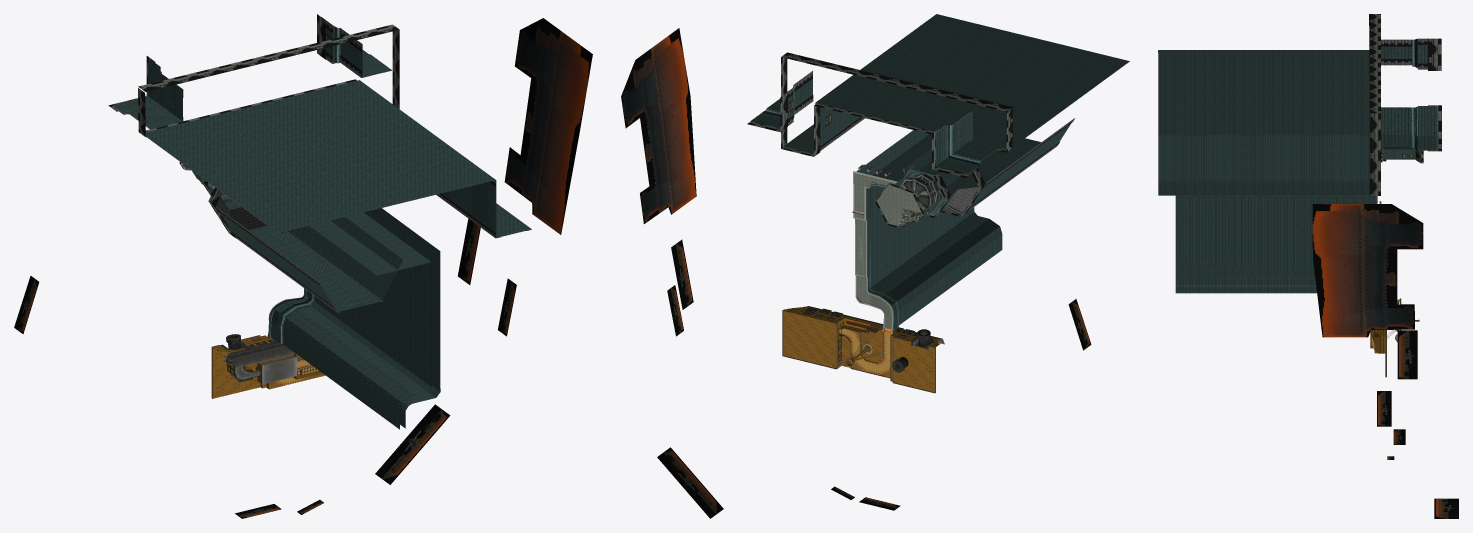
3 renders of one model, left to right at view 1: azimuth 30°, elevation 25°; view 2: azimuth 150°, elevation 25°; view 3: azimuth 270°, elevation 25°, orthographic. The views are drawn at different scales.
Parts seen in each view (by area): view 1: m04, m15, a_m14, m12, s_m11, m13; view 2: m04, m15, a_m14, s_m11, m13, s_m03, m08, s_m07; view 3: m04, m15, a_m14, m13.
Boxes of the visible parts, x1=… form: m04: x1=113, y1=25, x2=531, y2=429; m15: x1=14, y1=18, x2=592, y2=518; a_m14: x1=108, y1=14, x2=531, y2=398; m12: x1=220, y1=343, x2=296, y2=384; s_m11: x1=212, y1=348, x2=325, y2=398; m13: x1=127, y1=26, x2=368, y2=379; m04: x1=750, y1=14, x2=1129, y2=330; m15: x1=621, y1=28, x2=1091, y2=518; a_m14: x1=747, y1=52, x2=1129, y2=393; s_m11: x1=783, y1=311, x2=934, y2=392; m13: x1=761, y1=85, x2=980, y2=372; s_m03: x1=855, y1=173, x2=927, y2=329; m08: x1=783, y1=306, x2=940, y2=365; s_m07: x1=839, y1=328, x2=891, y2=374; m04: x1=1158, y1=39, x2=1437, y2=293; m15: x1=1312, y1=204, x2=1458, y2=518; a_m14: x1=1158, y1=14, x2=1441, y2=377; m13: x1=1376, y1=39, x2=1418, y2=321.
Size of the model in its own units: 191285 by 174141 by 120557.
Materials: 16 (16 with a texture image).
